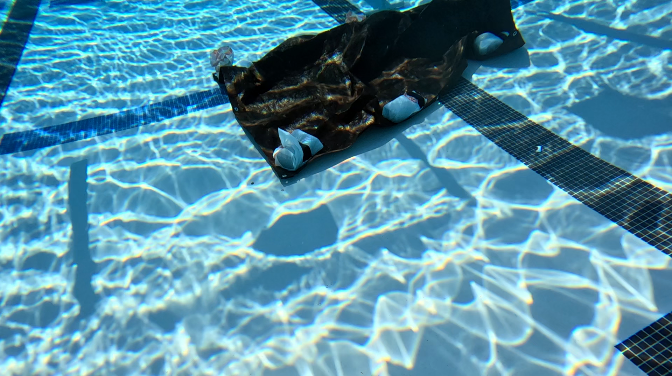sandbag: (208, 0, 525, 180)
